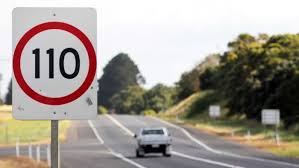Speed_limit_110km: (12, 21, 97, 105)
